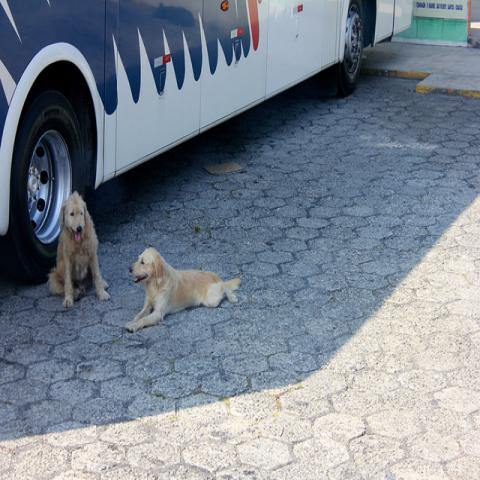bus: (0, 1, 415, 285)
